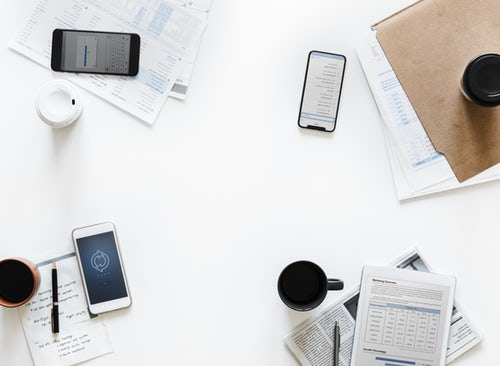phone: (72, 222, 133, 316), (51, 27, 144, 78), (296, 49, 347, 135)
